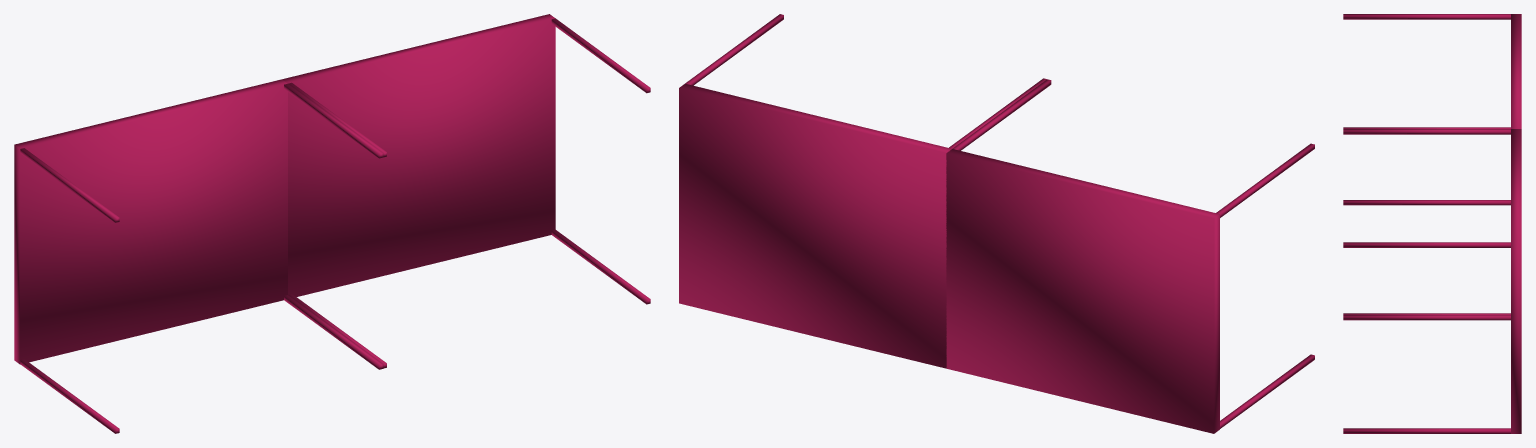
File: desk.dae
3 views of the same model, side by side, from view 1: azimuth 30°, elevation 25°; view 2: azimuth 150°, elevation 25°; view 3: azimuth 270°, elevation 25° (orthographic). The views are drawn at different scales.
Parts seen in each view (by area): view 1: Box005; view 2: Box005; view 3: Box005.
Part boxes in pixels (x1,y1,x2,y2): Box005: [14, 14, 650, 433]; Box005: [679, 14, 1314, 433]; Box005: [1343, 14, 1521, 433].
Size of the model in its own units: 2.6 by 1 by 0.85.
